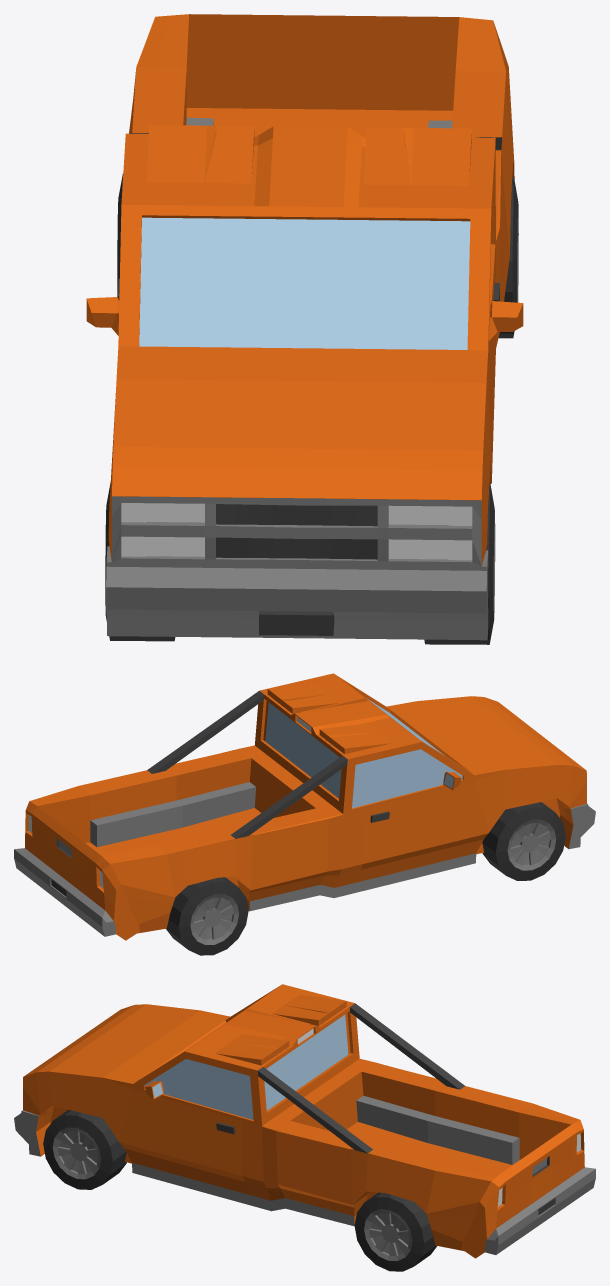
The model's file is PickUp1.fbx.
3 views of the same model, one above another, from view 1: azimuth 30°, elevation 25°; view 2: azimuth 150°, elevation 25°; view 3: azimuth 270°, elevation 25° (orthographic). The views are drawn at different scales.
Parts seen in each view (by area): view 1: Cube, Wheel.003, Wheel.002; view 2: Cube, Wheel.001, Wheel; view 3: Cube, Wheel.003, Wheel.002.
Boxes of the visible parts, x1,y1,x2,y2 form: Cube: [86, 14, 523, 640]; Wheel.003: [424, 484, 495, 644]; Wheel.002: [498, 177, 518, 338]; Cube: [14, 673, 595, 940]; Wheel.001: [482, 802, 565, 880]; Wheel: [166, 877, 248, 955]; Cube: [14, 984, 595, 1258]; Wheel.003: [43, 1110, 126, 1189]; Wheel.002: [354, 1192, 436, 1271].
Bounding box in the file's own units: 394 × 161 × 501.
